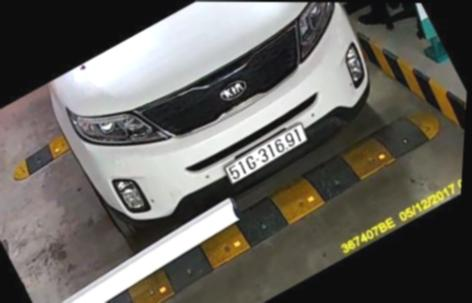License_Plate: (219, 125, 311, 184)
